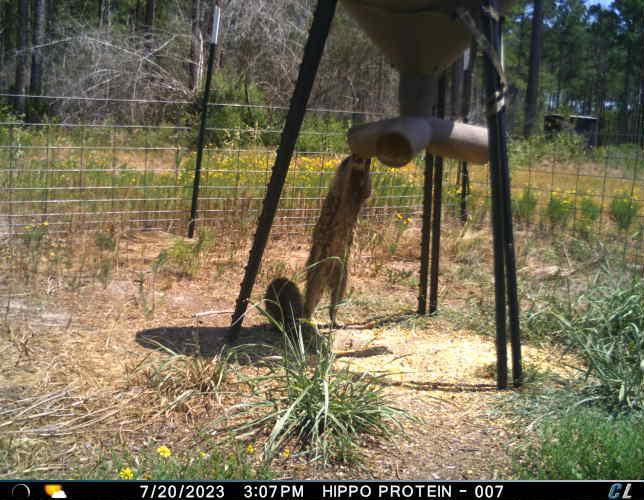Raccoon: (303, 154, 376, 331), (265, 274, 305, 335)
